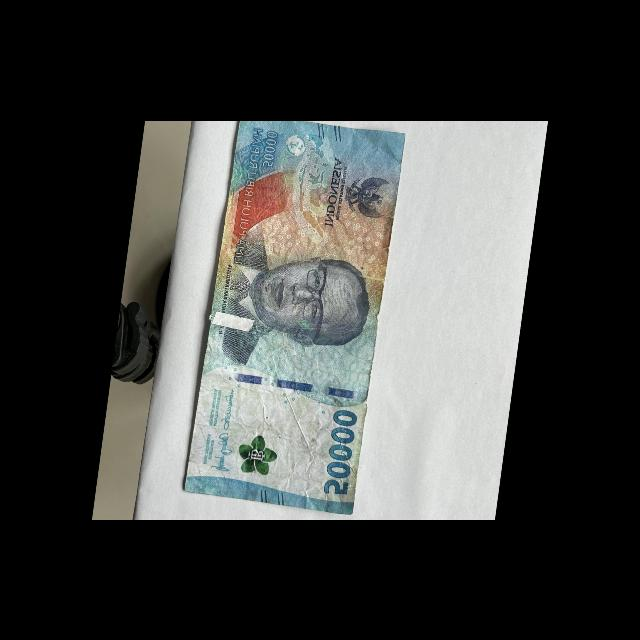Palsu-50k: (178, 104, 409, 518)
Tinta-Palsu-50k: (234, 431, 281, 478)
